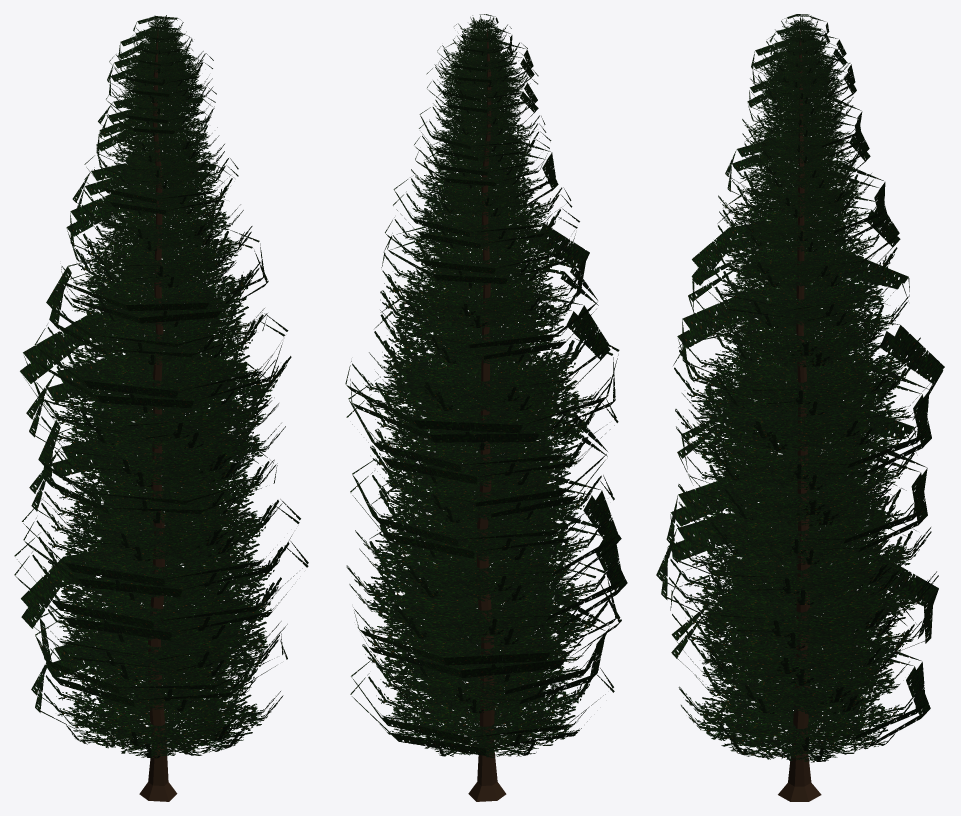
Rendered from Tree.fbx.
The picture shows the model from 3 angles, left to right: view 1: azimuth 30°, elevation 25°; view 2: azimuth 150°, elevation 25°; view 3: azimuth 270°, elevation 25°; orthographic projection.
Parts seen in each view (by area): view 1: Circle, Cube.001; view 2: Circle, Cube.001; view 3: Circle, Cube.001.
Part boxes in pixels (x1,y1,x2,y2): Circle: (14, 15, 308, 758); Cube.001: (139, 26, 177, 801); Circle: (345, 14, 627, 757); Cube.001: (468, 25, 506, 801); Circle: (656, 14, 944, 762); Cube.001: (778, 22, 821, 801).
Bounding box in the file's own units: 1023 × 3013 × 1023.
